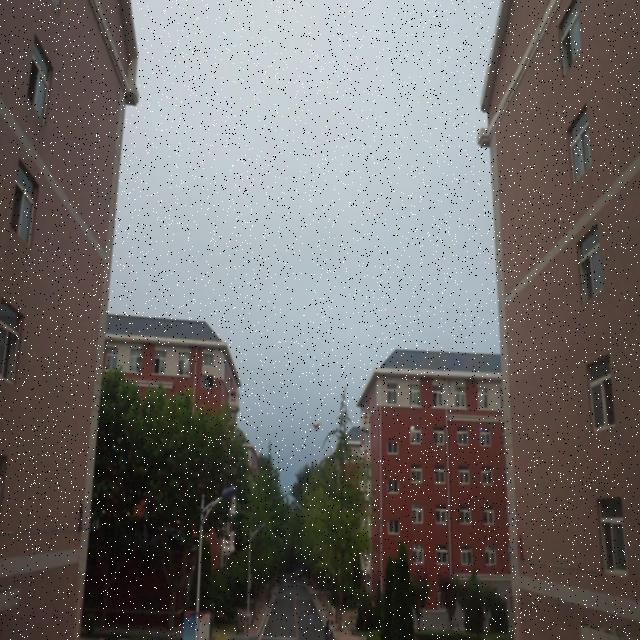UAV: (309, 422, 323, 432)
